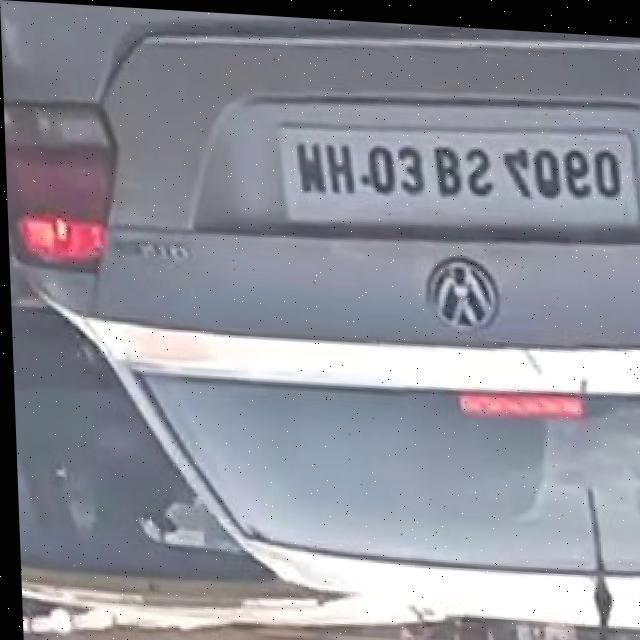plate: (271, 97, 640, 243)
